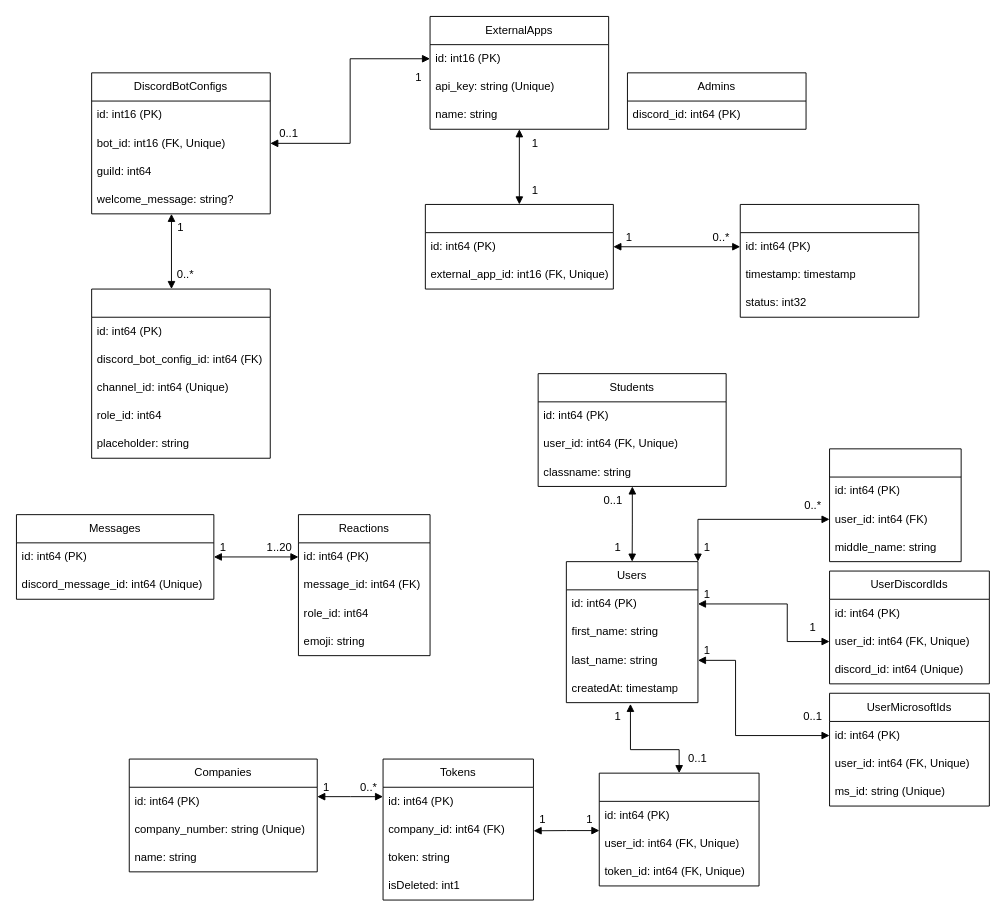
Image size: 1006x917. Some labels were removed from this diagram. Each missing label, with the box of its shape:
Businessmen: (598, 772, 759, 886)
DiscordCounters: (91, 288, 270, 458)
Stats: (424, 204, 613, 289)
Uptimes: (739, 204, 919, 317)
UserMiddleNames: (829, 448, 961, 562)
